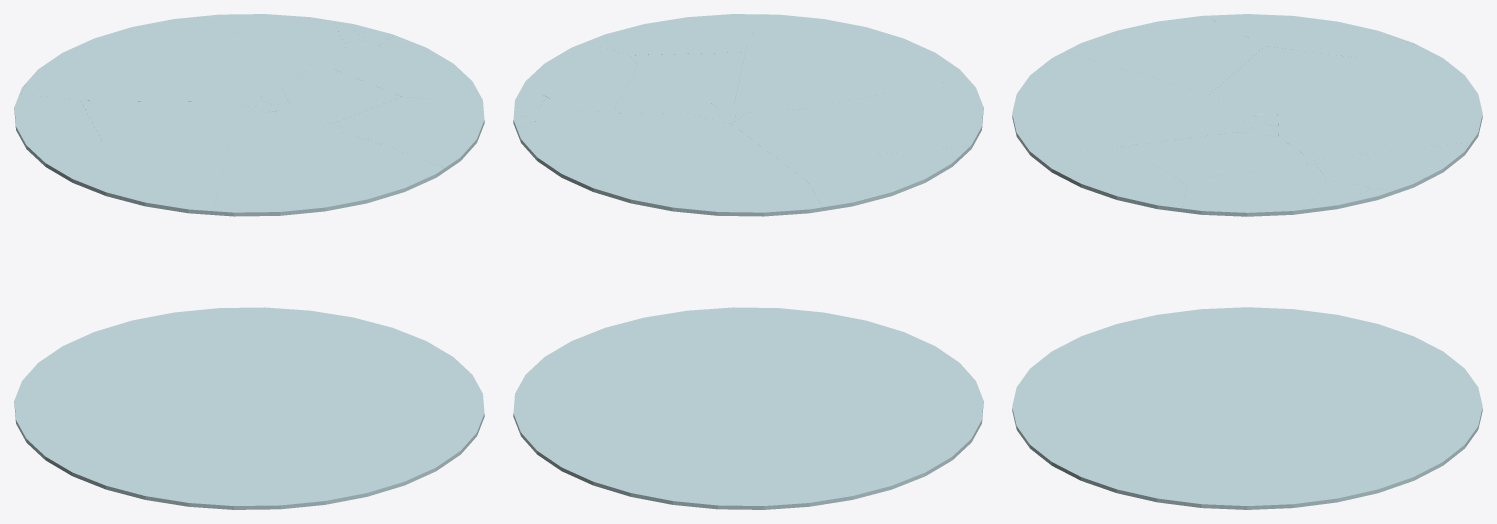
File: Field ground ver2 beta1.2 GLASS.fbx
3 views of the same model, side by side, from view 1: azimuth 30°, elevation 25°; view 2: azimuth 150°, elevation 25°; view 3: azimuth 270°, elevation 25° (orthographic).
Parts seen in each view (by area): view 1: GLASS, Cylinder.011_cell.002, Cylinder.011_cell.009, Cylinder.011_cell.001, Cylinder.011_cell.008, Cylinder.011_cell.006_cell.005, Cylinder.011_cell.006_cell.003, Cylinder.011_cell.010, Cylinder.011_cell.007, Cylinder.011_cell.006_cell.002, Cylinder.011_cell.006_cell.004, Cylinder.011_cell.005; view 2: GLASS, Cylinder.011_cell.002, Cylinder.011_cell.009, Cylinder.011_cell.001, Cylinder.011_cell.008, Cylinder.011_cell.010, Cylinder.011_cell.006_cell.005, Cylinder.011_cell.006_cell.003, Cylinder.011_cell.007, Cylinder.011_cell.006_cell.002, Cylinder.011_cell.006_cell.004, Cylinder.011_cell.005; view 3: GLASS, Cylinder.011_cell.002, Cylinder.011_cell.009, Cylinder.011_cell.001, Cylinder.011_cell.006_cell.005, Cylinder.011_cell.008, Cylinder.011_cell.006_cell.003, Cylinder.011_cell.010, Cylinder.011_cell.007, Cylinder.011_cell.006_cell.002, Cylinder.011_cell.006_cell.004, Cylinder.011_cell.005 (+1 smaller).
Boxes of the visible parts, x1,y1,x2,y2 form: GLASS: (14,307,484,509); Cylinder.011_cell.002: (21,17,312,101); Cylinder.011_cell.009: (213,112,442,216); Cylinder.011_cell.001: (71,136,229,214); Cylinder.011_cell.008: (81,100,251,140); Cylinder.011_cell.006_cell.005: (322,45,476,98); Cylinder.011_cell.006_cell.003: (377,89,484,169); Cylinder.011_cell.010: (14,94,101,181); Cylinder.011_cell.007: (196,14,347,65); Cylinder.011_cell.006_cell.002: (282,66,401,123); Cylinder.011_cell.006_cell.004: (333,96,426,141); Cylinder.011_cell.005: (273,107,386,145); GLASS: (513,307,983,509); Cylinder.011_cell.002: (577,113,822,216); Cylinder.011_cell.009: (734,14,966,112); Cylinder.011_cell.001: (806,77,983,153); Cylinder.011_cell.008: (732,108,877,181); Cylinder.011_cell.010: (807,146,970,210); Cylinder.011_cell.006_cell.005: (523,42,637,112); Cylinder.011_cell.006_cell.003: (586,14,761,55); Cylinder.011_cell.007: (517,109,618,185); Cylinder.011_cell.006_cell.002: (614,66,727,113); Cylinder.011_cell.006_cell.004: (630,52,742,77); Cylinder.011_cell.005: (715,46,746,105); GLASS: (1012,307,1482,509); Cylinder.011_cell.002: (1277,40,1482,160); Cylinder.011_cell.009: (1012,51,1245,159); Cylinder.011_cell.001: (1065,15,1264,94); Cylinder.011_cell.006_cell.005: (1182,165,1326,216); Cylinder.011_cell.008: (1209,46,1356,114); Cylinder.011_cell.006_cell.003: (1040,146,1187,212); Cylinder.011_cell.010: (1204,14,1401,57); Cylinder.011_cell.007: (1313,142,1471,194); Cylinder.011_cell.006_cell.002: (1185,132,1310,177); Cylinder.011_cell.006_cell.004: (1126,138,1204,185); Cylinder.011_cell.005: (1111,122,1238,147).
Bounding box in the file's own units: 2204 × 1535 × 2204.
